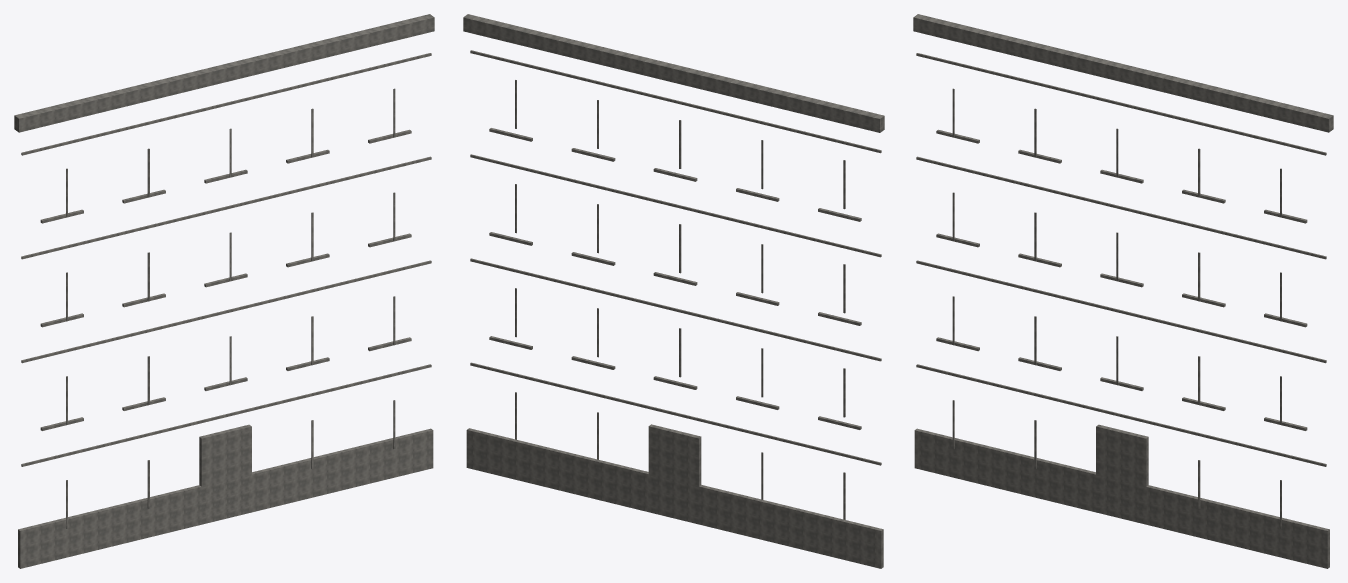
File: Street_BlockR4_Trim.obj
3 renders of one model, left to right at view 1: azimuth 30°, elevation 25°; view 2: azimuth 150°, elevation 25°; view 3: azimuth 330°, elevation 25°, orthographic.
Bounding box in the file's own units: 13.2 × 13.67 × 0.485.
1 material, 1 textured.
